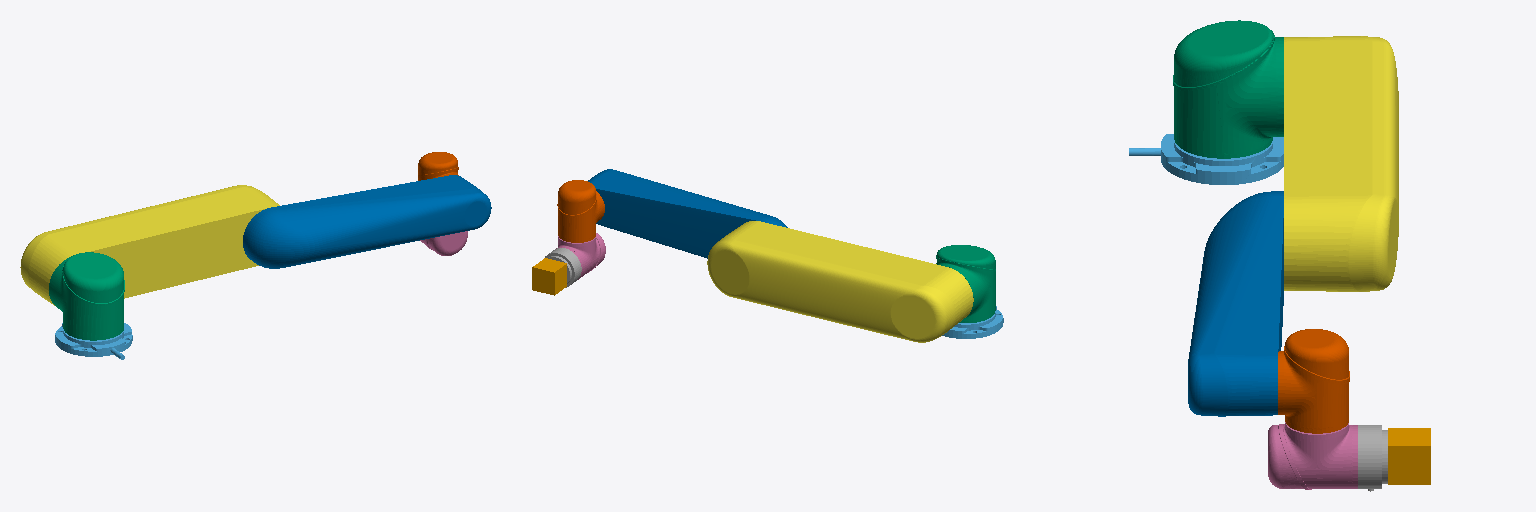
URDF robot description (ur5):
<?xml version="1.0" ?>
<!-- =================================================================================== -->
<!-- |    This document was autogenerated by xacro from ur5_robot.urdf.xacro           | -->
<!-- |    EDITING THIS FILE BY HAND IS NOT RECOMMENDED                                 | -->
<!-- |    Forked from: https://github.com/cpaxton/universal_robot                      | -->
<!-- |    Origin from: https://github.com/ros-industrial/universal_robot               | -->
<!-- =================================================================================== -->
<robot name="ur5" >
  <material name="UR/Blue">
    <color rgba="0.0 0.0 0.8 1.0"/>
  </material>
  <material name="UR/Grey">
    <color rgba="0.7 0.7 0.7 1.0"/>
  </material>
 

<!-- world -->
  <!-- Used for fixing robots 'base_link' to Gazebos 'world' -->
  <link name="world1"/>
  <joint name="world_base_joint" type="fixed">
    <parent link="world1"/>
    <child link="base_link"/>
    <origin rpy="0.0 0.0 0.0" xyz="0.0 0.0 0.01"/>
  </joint>
<!-- arm -->
  <link name="base_link">
    <visual>
      <geometry>
        <mesh filename="package://ur5/visual/Base.obj"/>
      </geometry>
      <origin rpy="0.0 0.0 2.3561944875" xyz="0.0 0.0 0.0"/>
    </visual>
    <collision>
      <geometry>
        <mesh filename="package://ur5/collision/Base.obj"/>
      </geometry>
    
    </collision>
    <inertial>
      <mass value="4.0"/>
      <inertia ixx="0.004433" ixy="0.0" ixz="0.0" iyy="0.00443333156" iyz="0.0" izz="0.0072"/>
    </inertial>
  </link> 

  <joint name="shoulder_pan_joint" type="revolute">
    <parent link="base_link"/>
    <child link="shoulder_link"/>
    <origin rpy="0.0 0.0 0.0" xyz="0.0 0.0 0.089159"/>
    <axis xyz="0 0 1"/>
    <limit effort="150.0" lower="-6.2831853" upper="6.2831853" velocity="3.14159265"/>
    <dynamics damping="0.0" friction="0.0"/>
  </joint>
  <link name="shoulder_link">
    <visual>
      <geometry>
        <mesh filename="package://ur5/visual/Shoulder.obj"/>
      </geometry>
    </visual>
    <collision>
      <geometry>
        <mesh filename="package://ur5/collision/Shoulder.obj"/>
      </geometry>
  
    </collision>
    <inertial>
      <mass value="3.7"/>
      <inertia ixx="0.010267495893" ixy="0.0" ixz="0.0" iyy="0.010267495893" iyz="0.0" izz="0.00666"/>
 	    <origin rpy="0.0 0.0 0.0" xyz="0.0 0.00193 -0.02561"/>
    </inertial>
  </link>

  <joint name="shoulder_lift_joint" type="revolute">
    <parent link="shoulder_link"/>
    <child link="upper_arm_link"/>
    <origin rpy="0.0 1.570796325 0.0" xyz="0.0 0.13585 0.0"/>
    <axis xyz="0 1 0"/>
    <limit effort="150.0" lower="-6.2831853" upper="6.2831853" velocity="3.14159265"/>
    <dynamics damping="0.0" friction="0.0"/>
  </joint>
  <link name="upper_arm_link">
    <visual>
      <geometry>
        <mesh filename="package://ur5/visual/UpperArm.obj"/>
      </geometry>
      <origin rpy="0.0 0.0 0.0" xyz="0.0 0.0 0.0"/>
    </visual>
    <collision>
      <geometry>
        <mesh filename="package://ur5/collision/UpperArm.obj"/>
      </geometry>
  
    </collision>
    <inertial>
      <mass value="8.393"/>
      <inertia ixx="0.22689067591036" ixy="0.0" ixz="0.0" iyy="0.22689067591036" iyz="0.0" izz="0.0151074" />
      <origin rpy="0.0 0.0 0.0" xyz="0.0 -0.024201 0.2125"/>  
      </inertial>
  </link>
 
  <joint name="elbow_joint" type="revolute">
    <parent link="upper_arm_link"/>
    <child link="forearm_link"/>
    <origin rpy="0.0 0.0 0.0" xyz="0.0 -0.1197 0.425"/>
    <axis xyz="0 1 0"/>
    <limit effort="150.0" lower="-6.2831853" upper="6.2831853" velocity="3.14159265"/>
    <dynamics damping="0.0" friction="0.0"/>
  </joint>
  <link name="forearm_link">
    <visual>
      <geometry>
        <mesh filename="package://ur5/visual/Forearm.obj"/>
      </geometry>
    </visual>
    <collision>
      <geometry>
        <mesh filename="package://ur5/collision/Forearm.obj"/>
      </geometry>
    </collision>
    <inertial>
      <mass value="2.275"/>
      <origin rpy="0.0 0.0 0.0" xyz="0.0 0.0265 0.11993"/>
       <inertia ixx="0.049443313556" ixy="0.0" ixz="0.0" iyy="0.049443313556" iyz="0.0" izz="0.004095" />
    </inertial>
  </link>
 
  <joint name="wrist_1_joint" type="revolute">
    <parent link="forearm_link"/>
    <child link="wrist_1_link"/>
    <origin rpy="0.0 1.570796325 0.0" xyz="0.0 0.0 0.39225"/>
    <axis xyz="0 1 0"/>
    <limit effort="28.0" lower="-3.14159265" upper="4.71" velocity="3.14159265"/>
    <dynamics damping="0.0" friction="0.0"/>
  </joint>
  <link name="wrist_1_link">
    <visual>
      <geometry>
        <mesh filename="package://ur5/visual/Wrist1.obj"/>
      </geometry>
      <origin rpy="0.0 1.570796325 0.0" xyz="0.0 0.093 0.0"/>
    </visual>
    <collision>
      <geometry>
        <mesh filename="package://ur5/collision/Wrist1.obj"/>
      </geometry>
      <origin rpy="0.0 1.570796325 0.0" xyz="0.0 0.093 0.0"/>
    </collision>
    <inertial>
      <mass value="1.219"/>
      <origin rpy="0.0 0.0 0.0" xyz="0.0 0.110949 0.01634"/>   
      <inertia ixx="0.11117275553088" ixy="0.0" ixz="0.0" iyy="0.11117275553088" iyz="0.0" izz="0.21942" />
    </inertial>
  </link>

  <joint name="wrist_2_joint" type="revolute">
    <parent link="wrist_1_link"/>
    <child link="wrist_2_link"/>
    <origin rpy="0.0 0.0 0.0" xyz="0.0 0.093 0.0"/>
    <axis xyz="0 0 1"/>
    <limit effort="28.0" lower="-3.14159265" upper="4.71" velocity="3.14159265"/>
    <dynamics damping="0.0" friction="0.0"/>
  </joint>
  <link name="wrist_2_link">
    <visual>
      <geometry>
        <mesh filename="package://ur5/visual/Wrist2.obj"/>
      </geometry>
      <origin rpy="0.0 0.0 0.0" xyz="0.0 0.0 0.09465"/>
    </visual>
    <collision>
      <geometry>
        <mesh filename="package://ur5/collision/Wrist2.obj"/>
      </geometry>
      <origin rpy="0.0 0.0 0.0" xyz="0.0 0.0 0.09465"/>
    </collision>
    <inertial>
      <mass value="1.219"/>
      <origin rpy="0.0 0.0 0.0" xyz="0.0 0.0018 0.11099"/>  
      <inertia ixx="0.11117275553088" ixy="0.0" ixz="0.0" iyy="0.11117275553088" iyz="0.0" izz="0.21942" />
    </inertial>
  </link>

  <joint name="wrist_3_joint" type="revolute">
    <parent link="wrist_2_link"/>
    <child link="wrist_3_link"/>
    <origin rpy="0.0 0.0 0.0" xyz="0.0 0.0 0.09465"/>
    <axis xyz="0 1 0"/>
    <limit effort="28.0" lower="-3.14159265" upper="3.14159265" velocity="3.14159265"/>
    <dynamics damping="0.0" friction="0.0"/>
  </joint>
  <link name="wrist_3_link">
    <visual>
      <geometry>
        <mesh filename="package://ur5/visual/Wrist3.obj"/>
      </geometry>
    </visual>
    <collision>
      <geometry>
        <mesh filename="package://ur5/collision/Wrist3.obj"/>
      </geometry>
    </collision>
    <inertial>
      <mass value="0.1879"/>
      <origin rpy="0.0 0.0 0.0" xyz="0.0 0.001159 0.0"/>
      <inertia ixx="0.017136473145408" ixy="0.0" ixz="0.0" iyy="0.017136473145408" iyz="0.0" izz="0.033822" />
    </inertial>
  </link>


  <joint name="ee_fixed_joint" type="revolute">
    <parent link="wrist_3_link"/>
    <child link="ee_link"/>
    <origin rpy="0.0 0.0 1.570796325" xyz="0.0 0.0823 0.0"/>
    <axis xyz="0 1 0"/>
    <limit effort="0.0" lower="0" upper="0" velocity="0"/>
  </joint>
 <link name="ee_link">
    <collision>
      <origin xyz="0.025 0 0.0" rpy="0 0 0"/>
      <geometry>
        <box size="0.05 0.05 0.05"/>
      </geometry>
    </collision>
    <visual>
      <origin xyz="0.025 0 0.0" rpy="0 0 0"/>
      <geometry>
        <box size="0.05 0.05 0.05"/>
      </geometry>
    </visual>
    <inertial>
      <origin xyz="0.025 0.025 0.025" rpy="0 0 0"/>
      <mass value="0.00001"/>
      <inertia
        ixx="0.000000004" ixy="0.0" ixz="0.0"
        iyy="0.000000004" iyz="0.0"
        izz="0.000000004"/>
    </inertial>

</link>

</robot>

--- What the picture shows (computed from the rendered views, not written in the file) ---
The picture shows the robot from 3 angles, left to right: view 1: azimuth 30°, elevation 25°; view 2: azimuth 150°, elevation 25°; view 3: azimuth 270°, elevation 25°; orthographic projection.
Robot: ur5 — 9 links, 8 joints (7 revolute, 1 fixed); root link world1; default pose: every joint at zero.
Links seen in each view (by area): view 1: upper_arm_link, forearm_link, shoulder_link, base_link, wrist_1_link, wrist_2_link; view 2: upper_arm_link, forearm_link, shoulder_link, wrist_1_link, ee_link, wrist_2_link, base_link, wrist_3_link; view 3: upper_arm_link, forearm_link, shoulder_link, wrist_1_link, wrist_2_link, base_link, ee_link, wrist_3_link.
Boxes of the visible links, x1,y1,x2,y2 form: upper_arm_link: (20,185,279,305); forearm_link: (243,175,491,268); shoulder_link: (49,252,124,340); base_link: (55,323,132,359); wrist_1_link: (418,152,458,180); wrist_2_link: (420,231,467,255); upper_arm_link: (707,221,973,342); forearm_link: (588,169,787,258); shoulder_link: (936,245,995,322); wrist_1_link: (557,180,604,242); ee_link: (532,258,566,295); wrist_2_link: (556,233,605,279); base_link: (942,306,1003,338); wrist_3_link: (545,248,581,287); upper_arm_link: (1284,36,1398,291); forearm_link: (1188,191,1283,416); shoulder_link: (1173,20,1283,158); wrist_1_link: (1278,329,1349,433); wrist_2_link: (1268,422,1357,489); base_link: (1129,134,1283,184); ee_link: (1388,428,1430,484); wrist_3_link: (1358,425,1387,491).
Bounding box of the posed robot: 0.9295 × 0.3514 × 0.2062 m (x, y, z).
Meshes: 7 distinct files referenced, 7 mesh visuals loaded (7 OBJ).